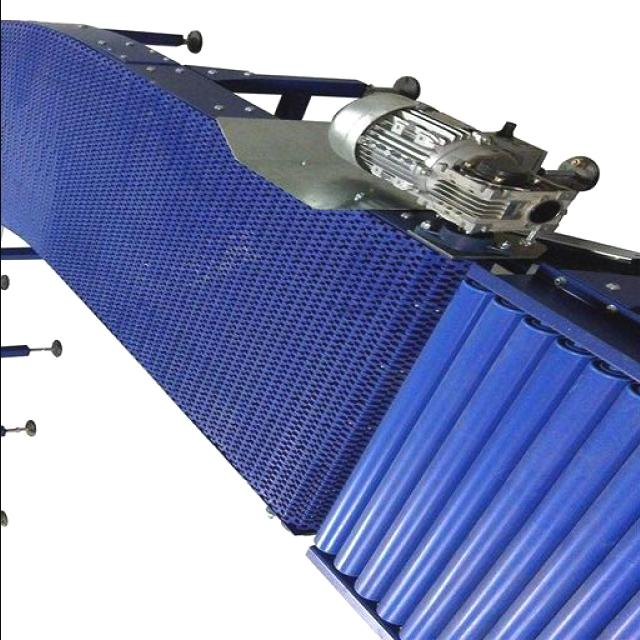conveyor: (0, 18, 640, 640)
